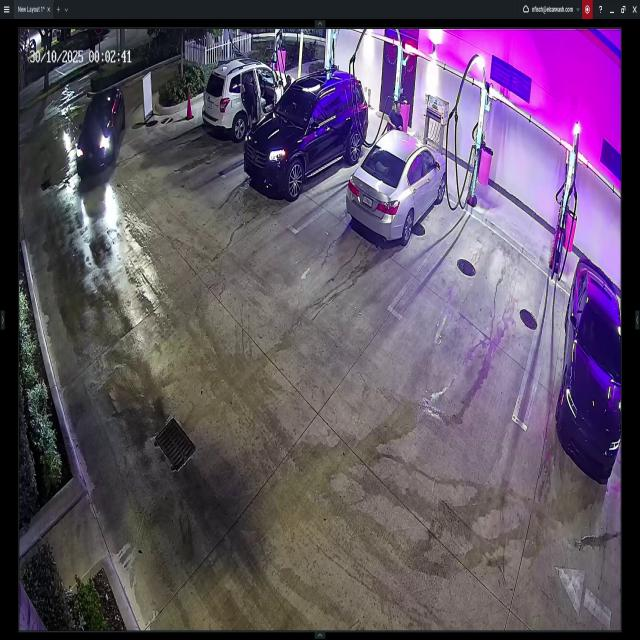Car: (244, 68, 368, 197), (557, 254, 621, 487), (343, 130, 449, 243), (201, 64, 297, 143), (76, 85, 124, 178)
